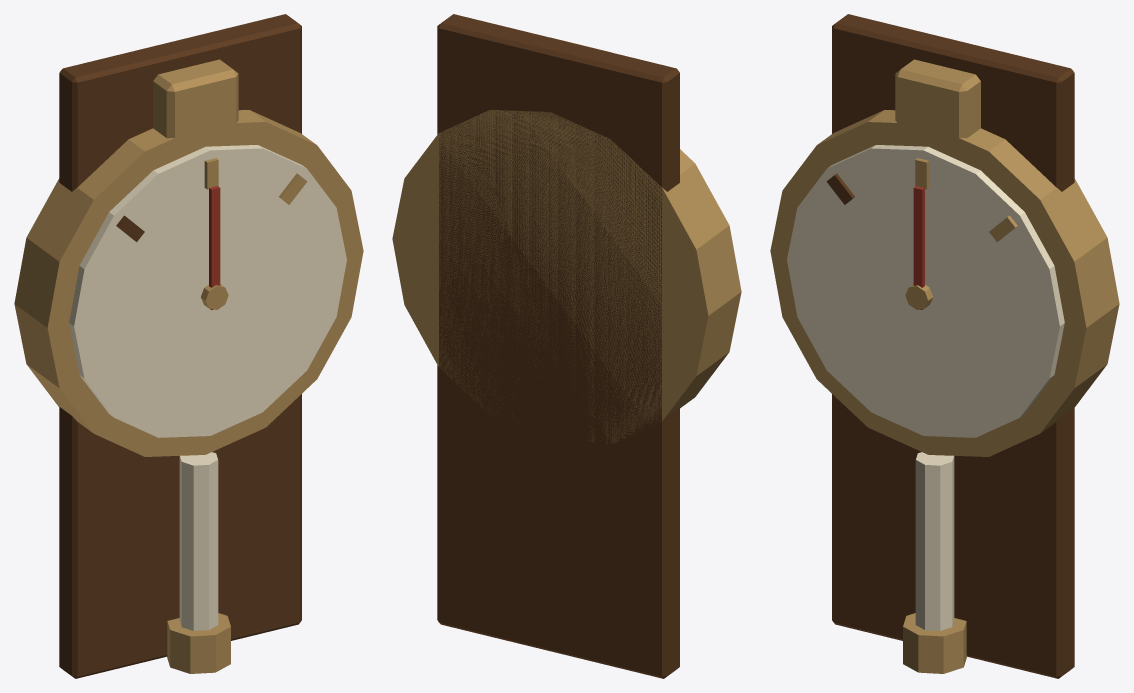
Rendered from Prop_OR_StormGlass.glb.
The picture shows the model from 3 angles, left to right: view 1: azimuth 30°, elevation 25°; view 2: azimuth 150°, elevation 25°; view 3: azimuth 330°, elevation 25°; orthographic projection.
Visible parts, largest first — view 1: Prop_OR_StormGlass, Prop_OR_StormGlass_Needle; view 2: Prop_OR_StormGlass; view 3: Prop_OR_StormGlass, Prop_OR_StormGlass_Needle.
Boxes of the visible parts, box(x1,y1,x2,y2) form: Prop_OR_StormGlass: box(14, 14, 363, 678); Prop_OR_StormGlass_Needle: box(201, 186, 228, 309); Prop_OR_StormGlass: box(392, 14, 741, 678); Prop_OR_StormGlass: box(770, 14, 1119, 678); Prop_OR_StormGlass_Needle: box(905, 186, 932, 309).
Size of what is drawn, in the model's own units: 0.22 by 0.4 by 0.054.
